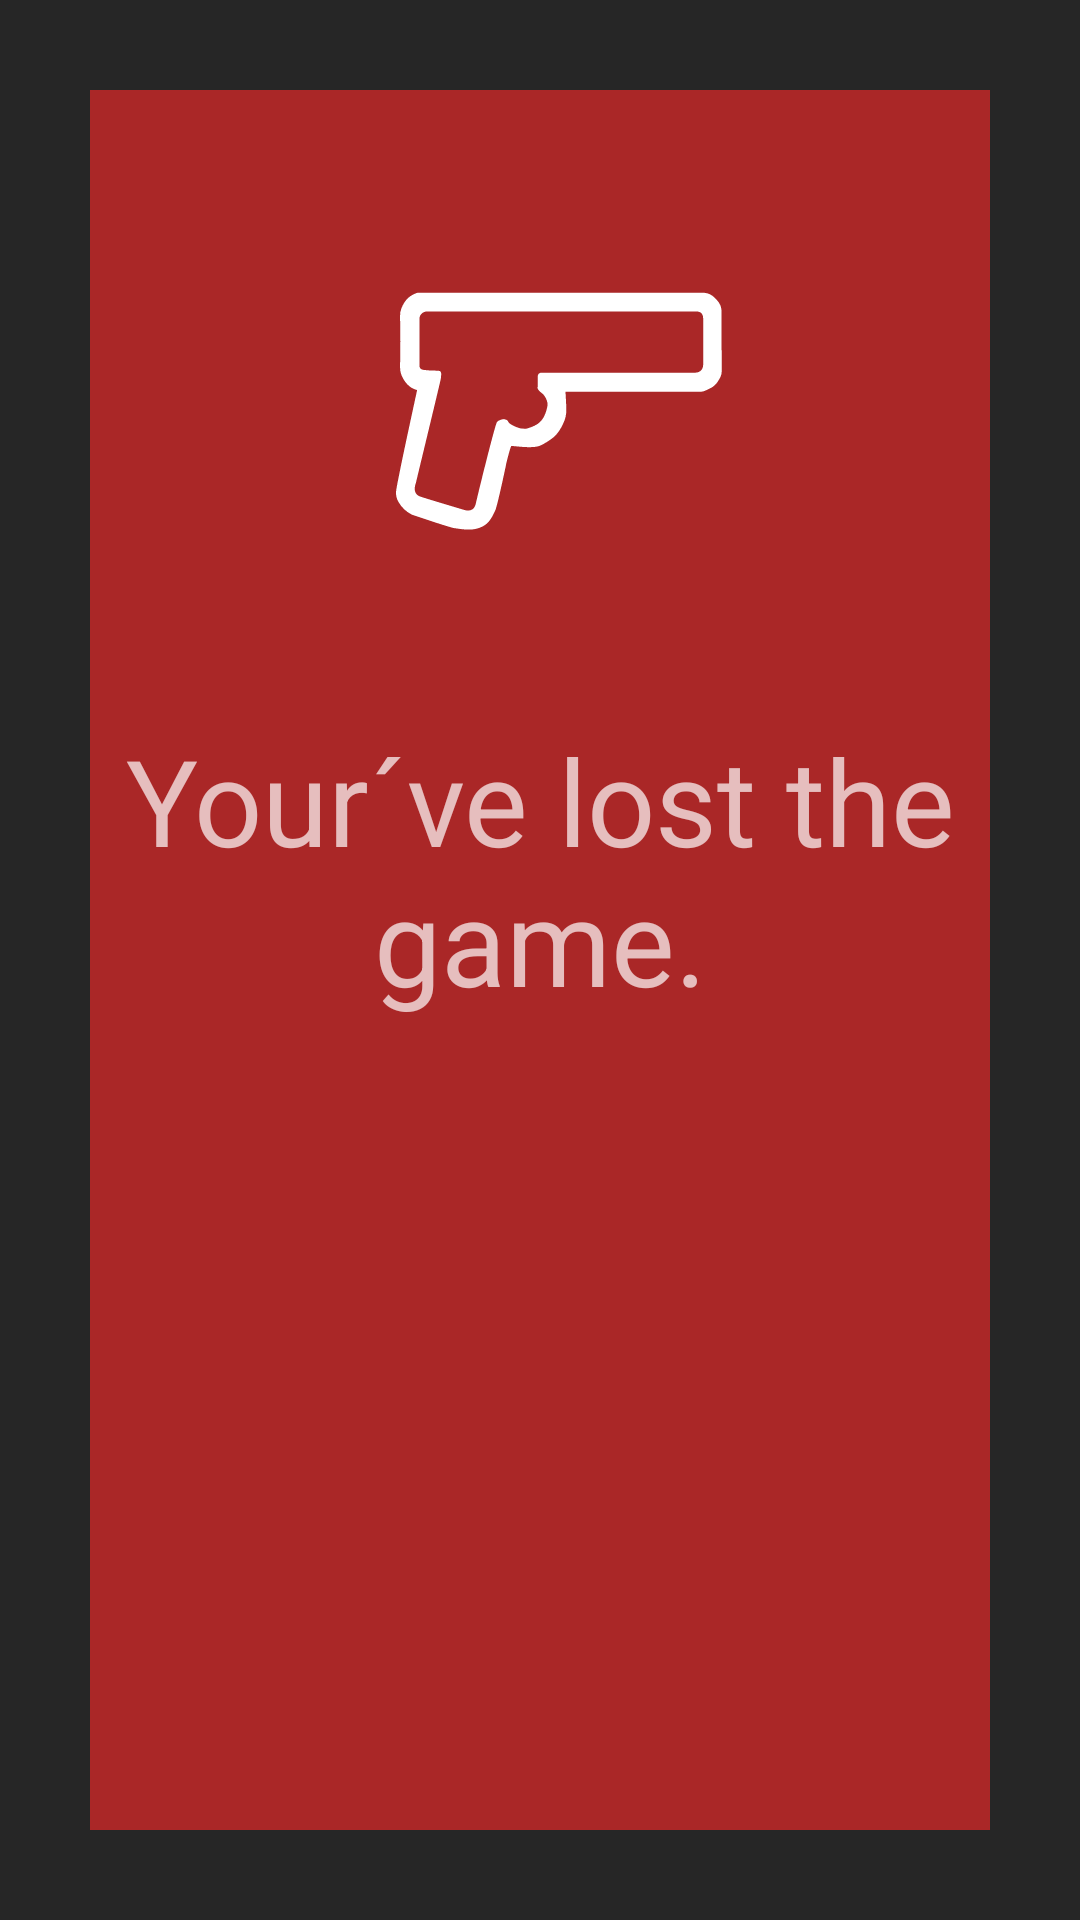

Locate icon controls on the screen. Image size 1080 × 1920, boxes as box(x1, y1, x2, y2).
pistol: box(396, 292, 722, 530)
